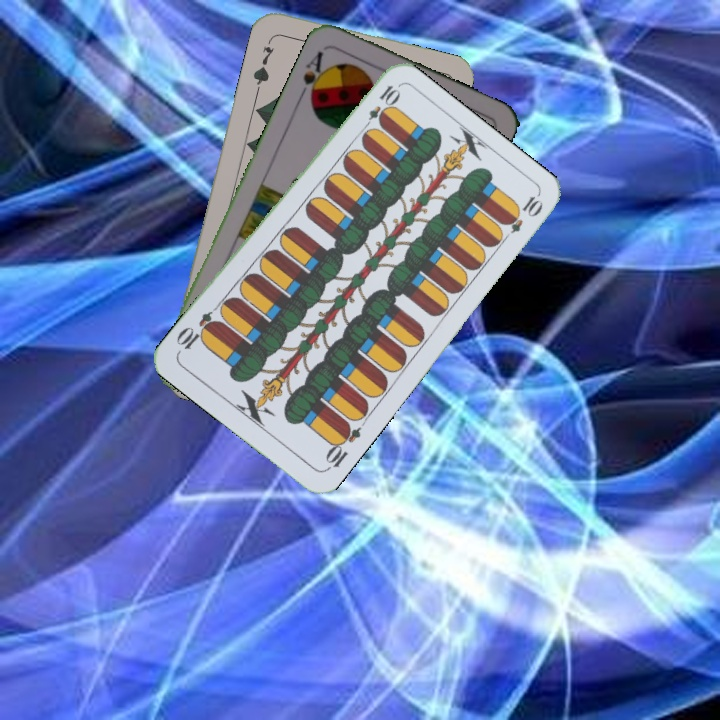E10: (321, 418, 364, 474), (358, 81, 402, 134)
G7: (249, 34, 277, 92)
SA: (295, 47, 331, 105)
